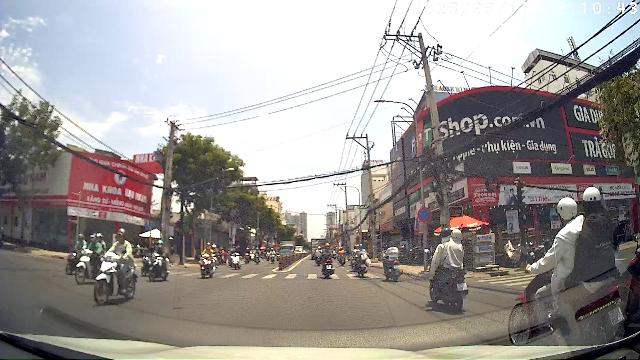131a-cam-do-xe: (418, 207, 432, 223)
